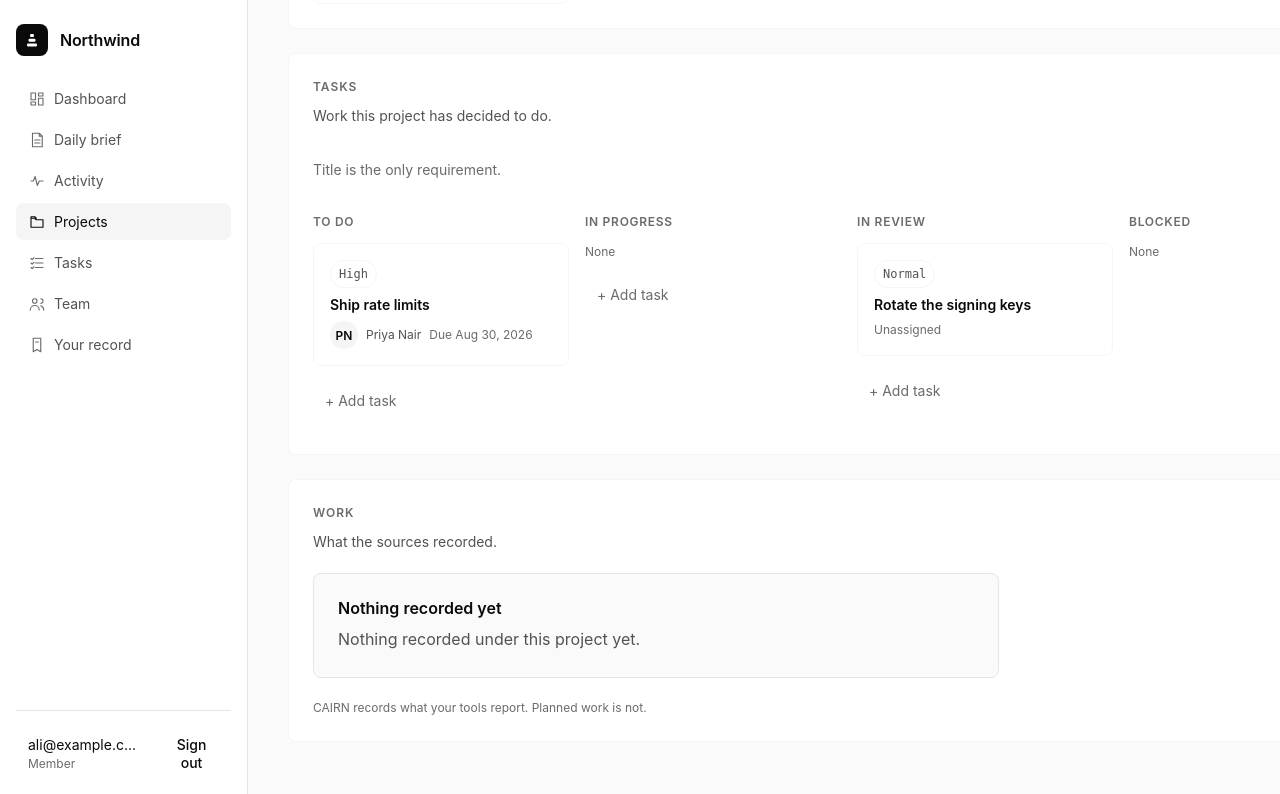
it: a project's task board › the quick Add task composer › says nothing that counts, scores or ranks, composer included
This screenshot has width=1280, height=794.
(page scrolled)
Expected: the link "Ship rate limits" is shown, [330,296,430,313]
Click the button with aria-label "Add task to To do".
click(441, 400)  # box [313,378,569,422]
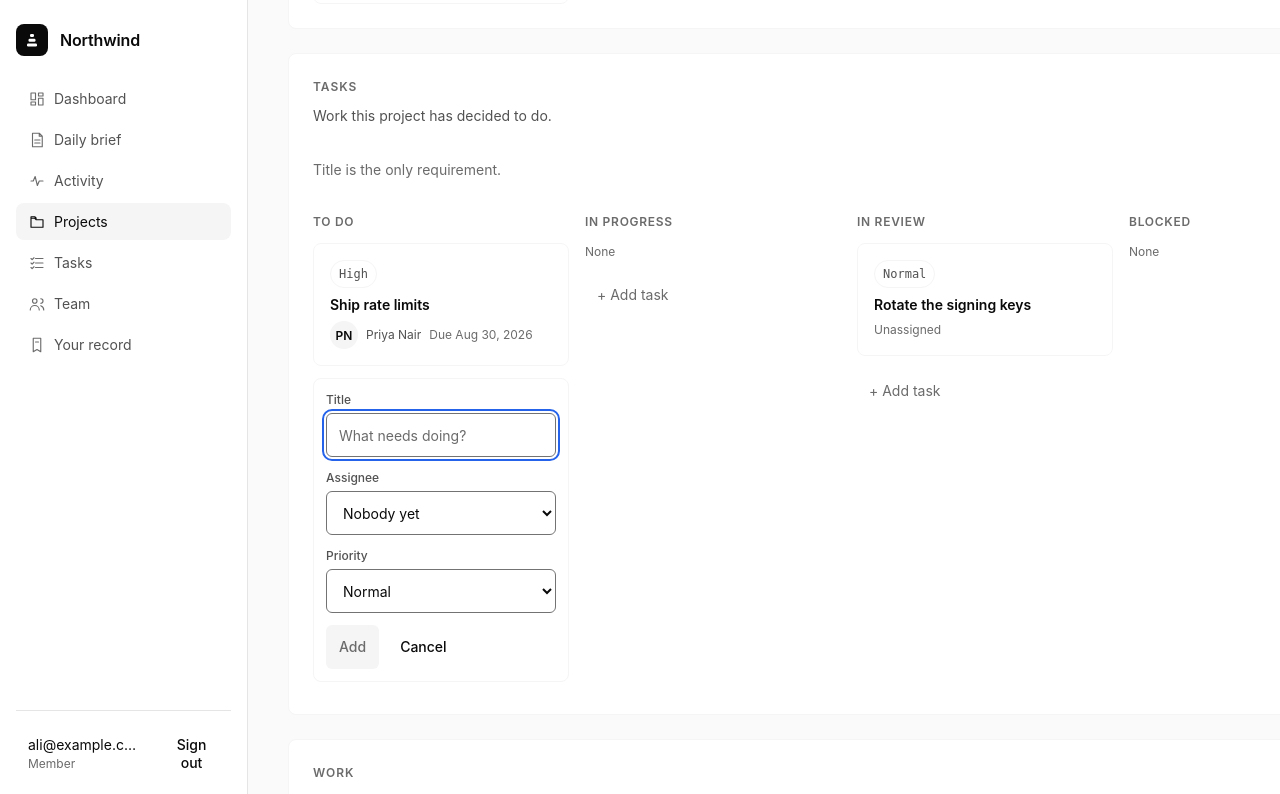
Now the form named "Add task to To do" is shown, box [313,378,569,682]
